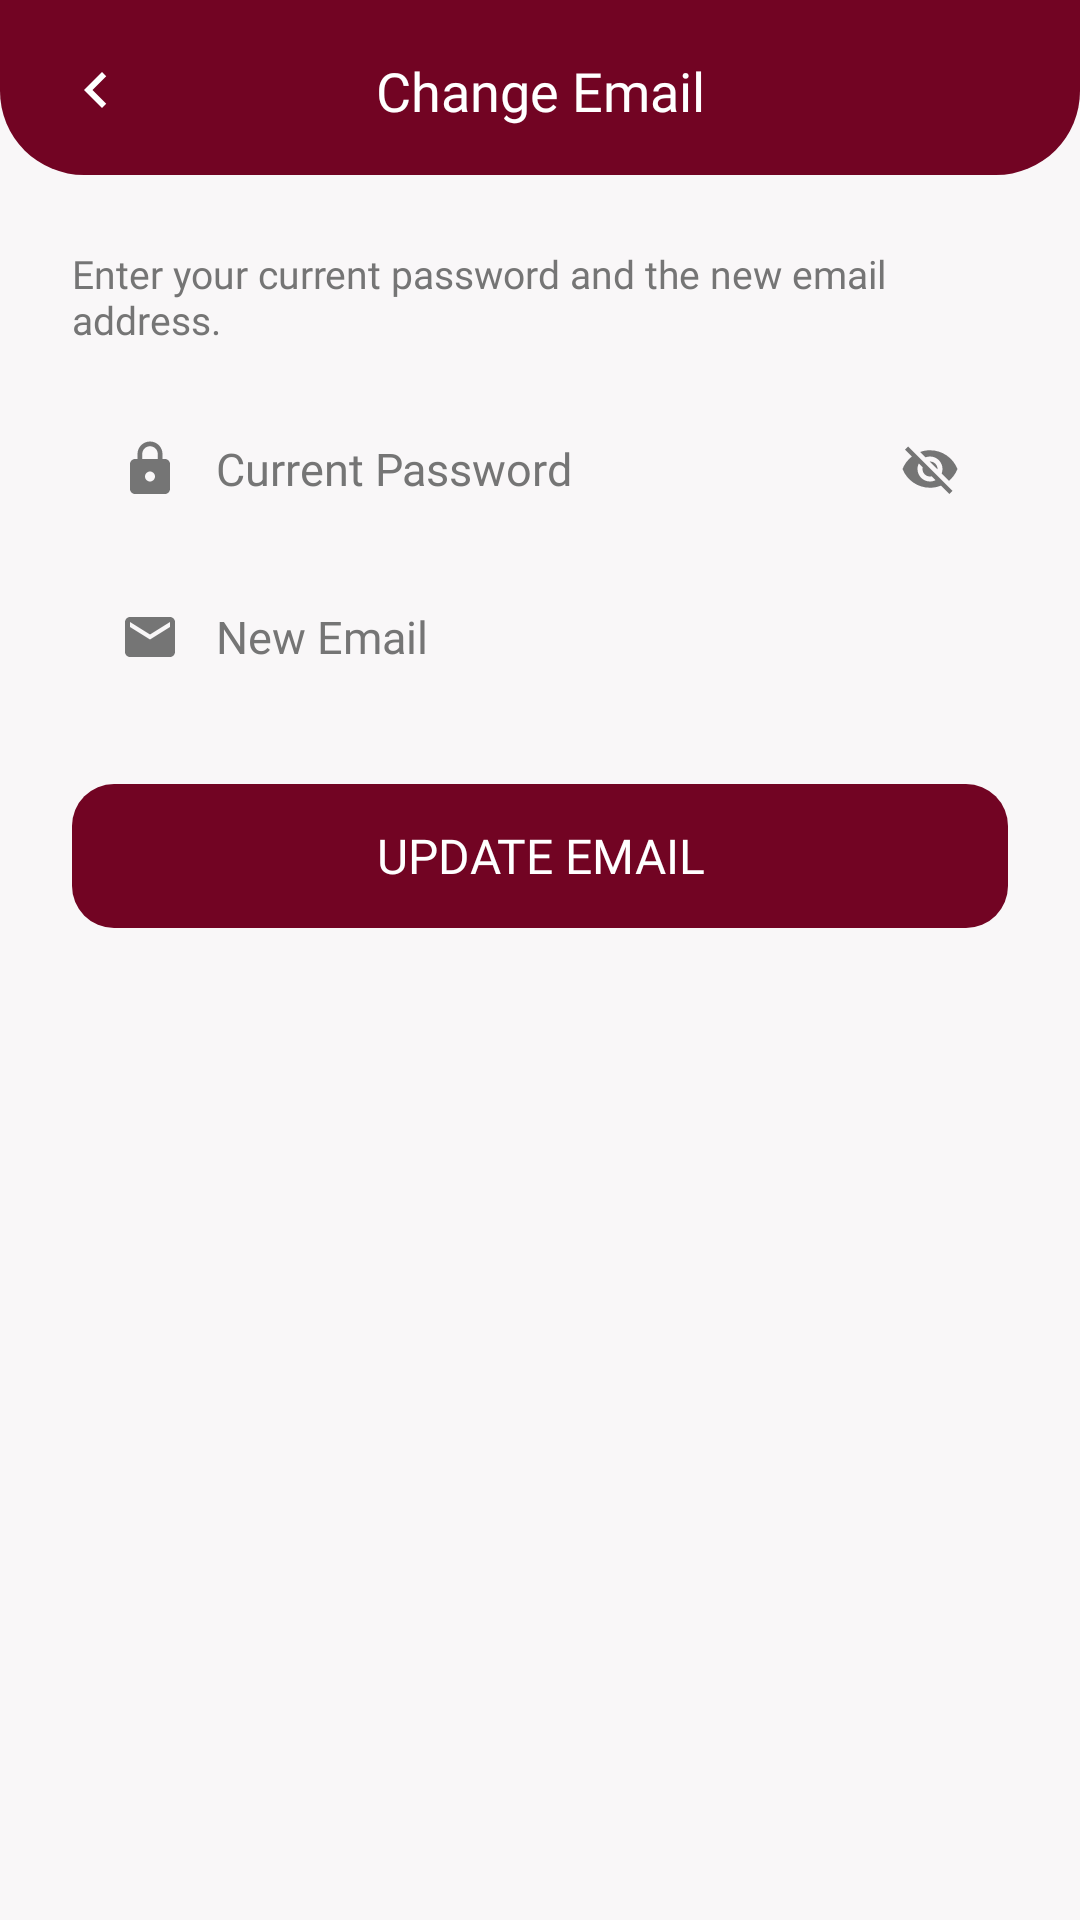

Icon click points for this 1080w x 1920h phone screenshot, format [x,y]:
eye off: [930,470]
lock: [150,467]
